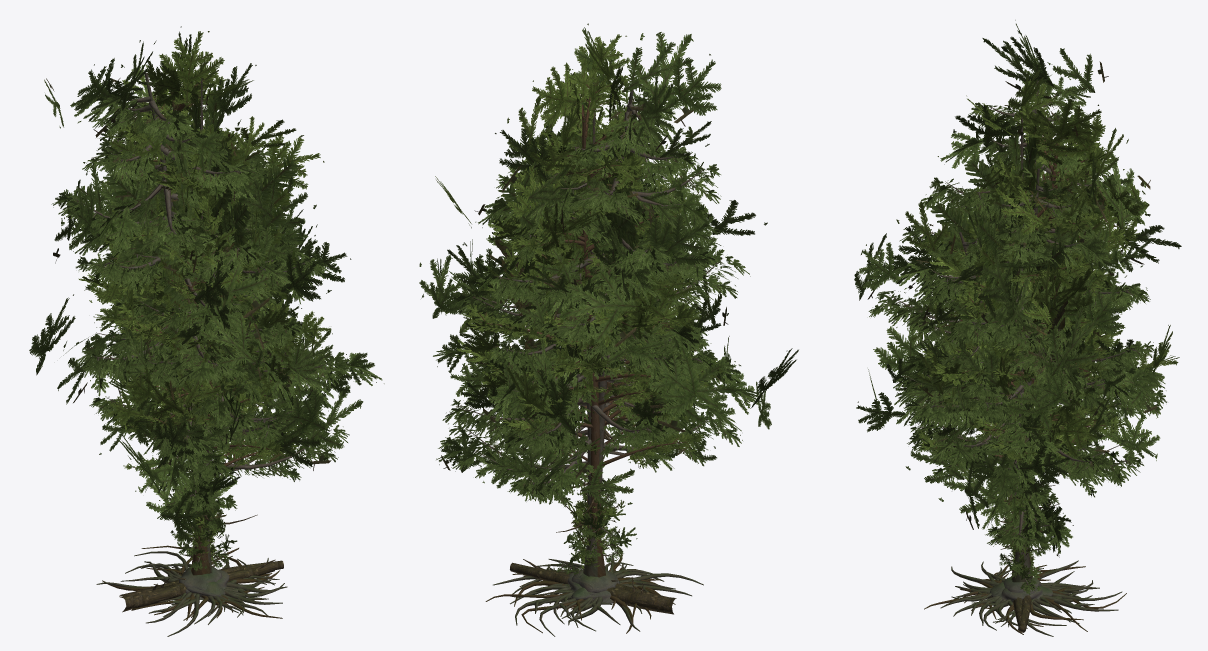
File: tree-library-v2.glb
The picture shows the model from 3 angles, left to right: view 1: azimuth 30°, elevation 25°; view 2: azimuth 150°, elevation 25°; view 3: azimuth 270°, elevation 25°; orthographic projection. The views are drawn at different scales.
Parts seen in each view (by area): view 1: tsuga_b_low, tsuga_b_high, hinoki_b_low, tsuga_c_low, tsuga_a_low, tsuga_a_high, hinoki_a_low, tsuga_b_far, tsuga_c_high, hinoki_b_high, hinoki_c_high, hinoki_a_high (+10 smaller); view 2: tsuga_b_low, tsuga_b_high, hinoki_b_low, tsuga_a_high, tsuga_a_low, hinoki_b_high, tsuga_c_low, hinoki_a_low, hinoki_a_high, hinoki_c_high, tsuga_b_far, tsuga_c_high (+8 smaller); view 3: tsuga_b_low, tsuga_b_high, tsuga_a_low, hinoki_b_low, tsuga_a_high, tsuga_c_low, hinoki_a_low, hinoki_b_high, tsuga_c_high, tsuga_b_far, hinoki_a_high, hinoki_b_far (+6 smaller).
Part boxes in pixels (bbox=[...]): tsuga_b_low: bbox=[29, 40, 363, 543]; tsuga_b_high: bbox=[51, 65, 352, 636]; hinoki_b_low: bbox=[78, 26, 324, 575]; tsuga_c_low: bbox=[99, 205, 328, 528]; tsuga_a_low: bbox=[85, 117, 384, 572]; tsuga_a_high: bbox=[89, 111, 349, 615]; hinoki_a_low: bbox=[93, 112, 332, 432]; tsuga_b_far: bbox=[103, 78, 303, 540]; tsuga_c_high: bbox=[96, 210, 307, 624]; hinoki_b_high: bbox=[102, 72, 331, 620]; hinoki_c_high: bbox=[119, 232, 300, 618]; hinoki_a_high: bbox=[106, 128, 287, 620]; tsuga_b_low: bbox=[447, 23, 798, 576]; tsuga_b_high: bbox=[456, 82, 750, 636]; hinoki_b_low: bbox=[435, 27, 728, 577]; tsuga_a_high: bbox=[438, 126, 742, 625]; tsuga_a_low: bbox=[419, 131, 744, 550]; hinoki_b_high: bbox=[463, 68, 723, 633]; tsuga_c_low: bbox=[436, 176, 724, 572]; hinoki_a_low: bbox=[446, 107, 717, 402]; hinoki_a_high: bbox=[480, 130, 677, 619]; hinoki_c_high: bbox=[485, 246, 705, 633]; tsuga_b_far: bbox=[495, 73, 692, 541]; tsuga_c_high: bbox=[493, 241, 716, 631]; tsuga_b_low: bbox=[854, 20, 1181, 580]; tsuga_b_high: bbox=[868, 75, 1150, 627]; tsuga_a_low: bbox=[897, 169, 1163, 582]; hinoki_b_low: bbox=[907, 70, 1179, 579]; tsuga_a_high: bbox=[907, 164, 1166, 628]; tsuga_c_low: bbox=[859, 190, 1160, 581]; hinoki_a_low: bbox=[896, 154, 1126, 442]; hinoki_b_high: bbox=[937, 99, 1140, 620]; tsuga_c_high: bbox=[893, 230, 1098, 636]; tsuga_b_far: bbox=[928, 112, 1118, 548]; hinoki_a_high: bbox=[920, 165, 1126, 634]; hinoki_b_far: bbox=[935, 159, 1111, 362].
Size of the model in its own units: 14.04 by 23.84 by 13.8.
5 materials, 5 textured.
